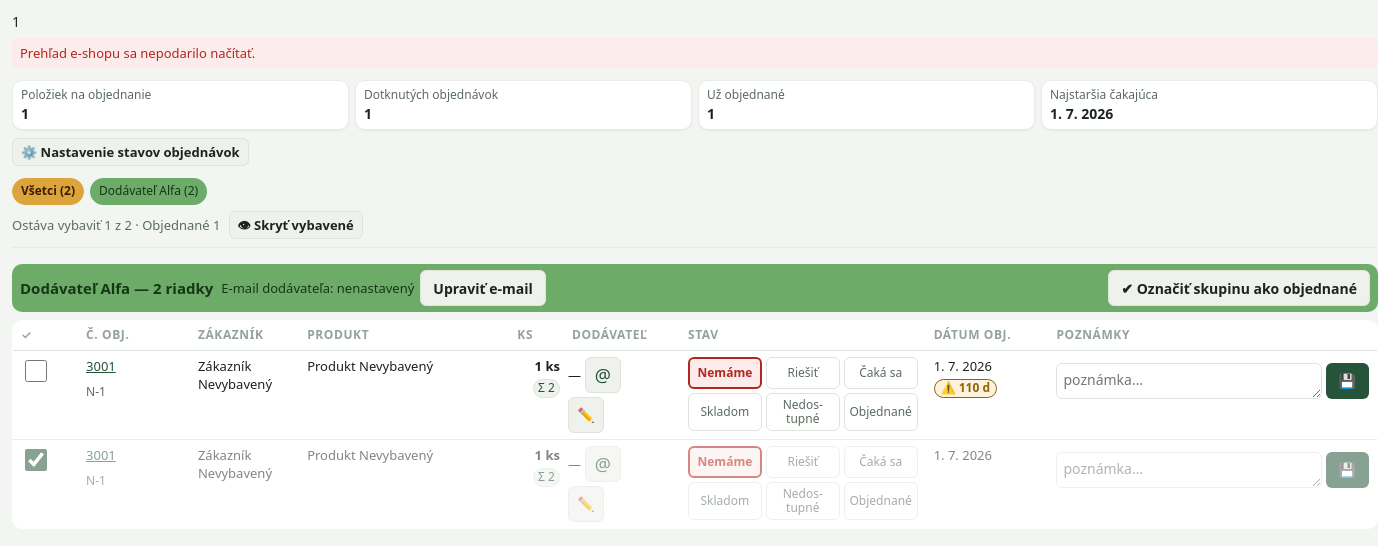
po zmene stavu posledného nevybaveného riadku odznak klesne na 0, bez nového refetchu
Check: the text with test id "remaining-count" reads "1", box [12,12,20,31]
Click the radio button labelled "Skladom" in the row of "110".
click(725, 412)  # box [688,393,762,431]
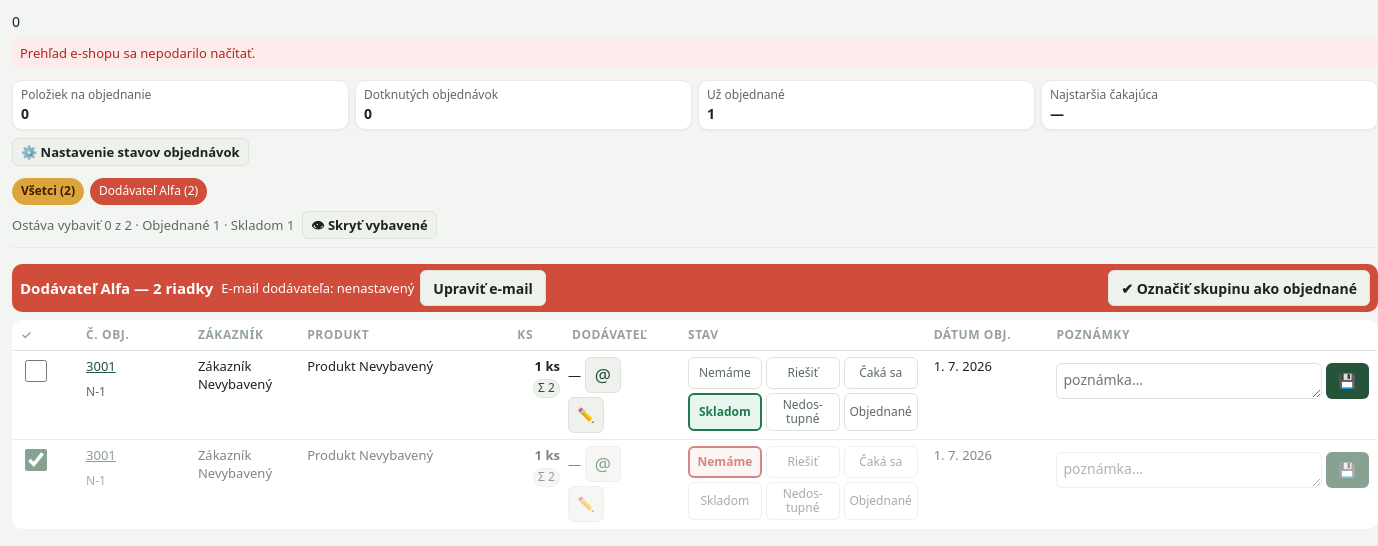
Check: the text with test id "remaining-count" reads "0", box [12,12,20,31]
